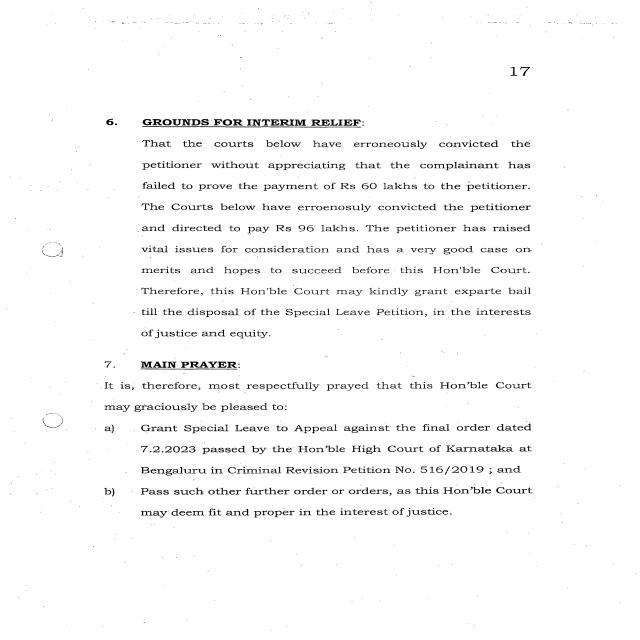page-number: (417, 1, 640, 136)
